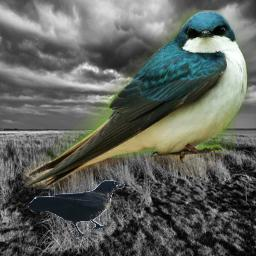Crow: (28, 180, 125, 237)
Swallow: (23, 10, 250, 189)
